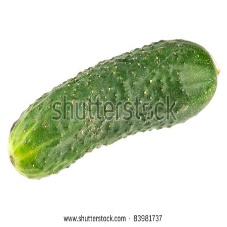cucumber: (8, 38, 219, 180)
